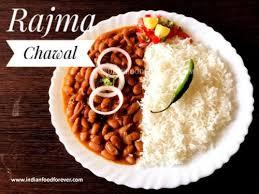rajma: (76, 43, 141, 164)
rice: (147, 45, 221, 158)
salad: (89, 49, 128, 127), (141, 16, 184, 44)
